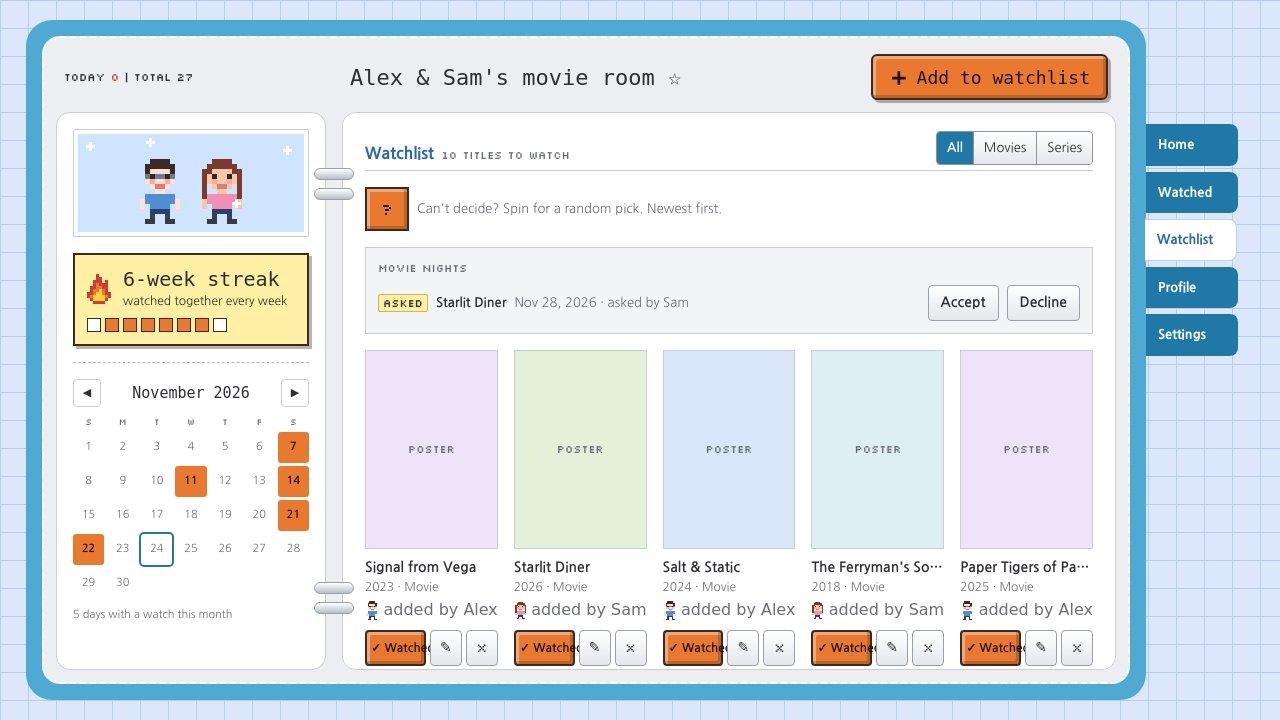
revisions › asks before removing a watchlist title, and the header button adds to the watchlist
Check: the button "+ Add to watchlist" is shown, box [871,54,1108,100]
Click the button named "Remove Signal from Vega" at (482, 648), box [466,630,498,666]
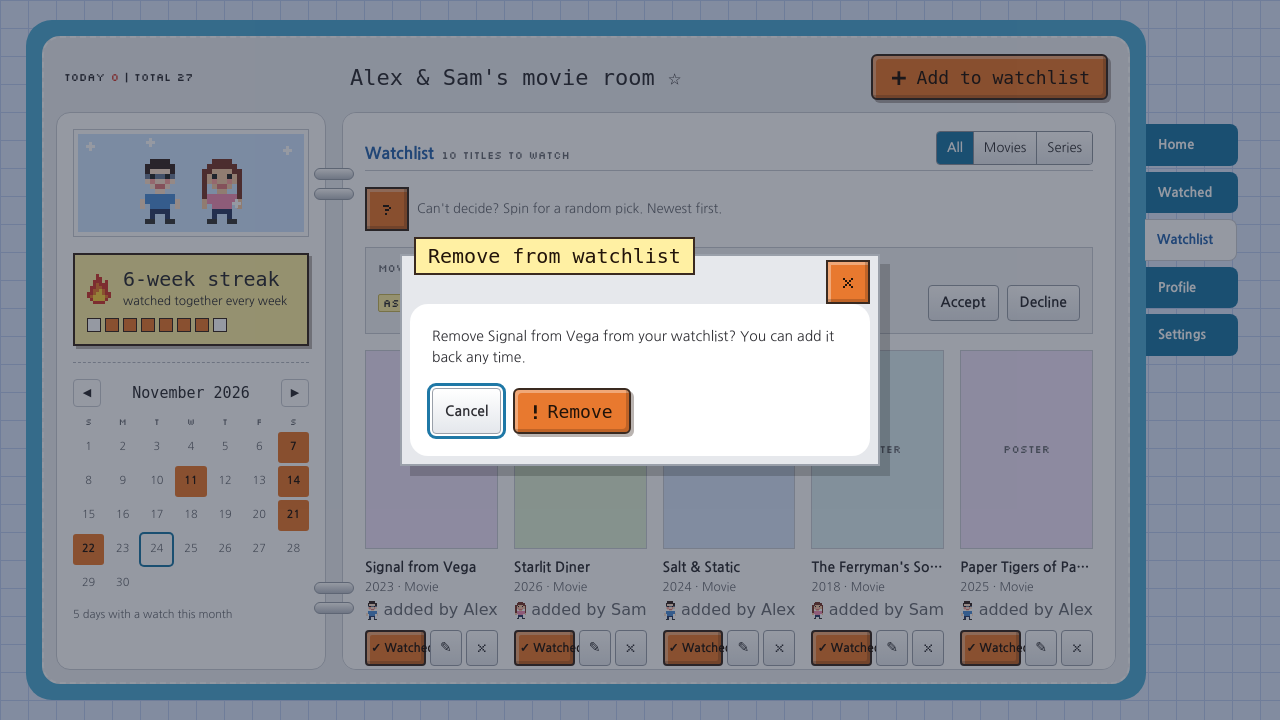
Click the button "Cancel" at (467, 411), box [432,388,501,434]
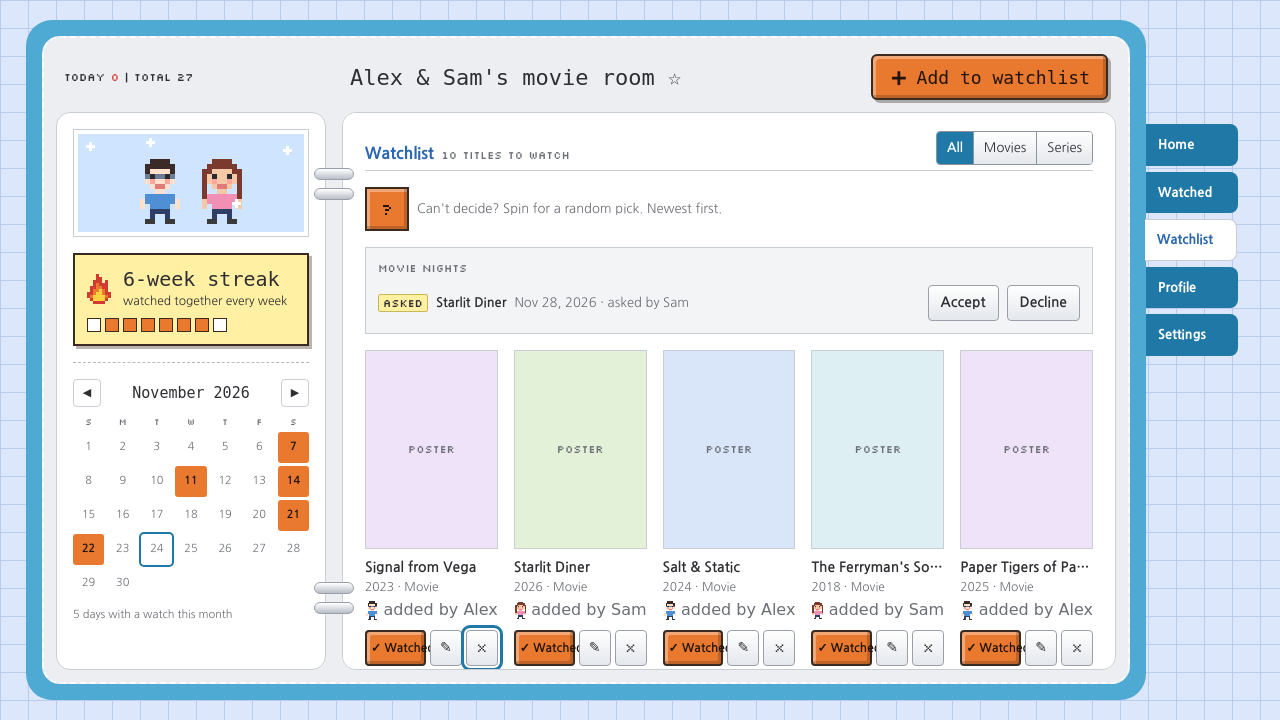
Check: the element "Signal from Vega" is shown, box [365,350,498,666]
Click the button named "Remove Signal from Vega" at (482, 648), box [466,630,498,666]
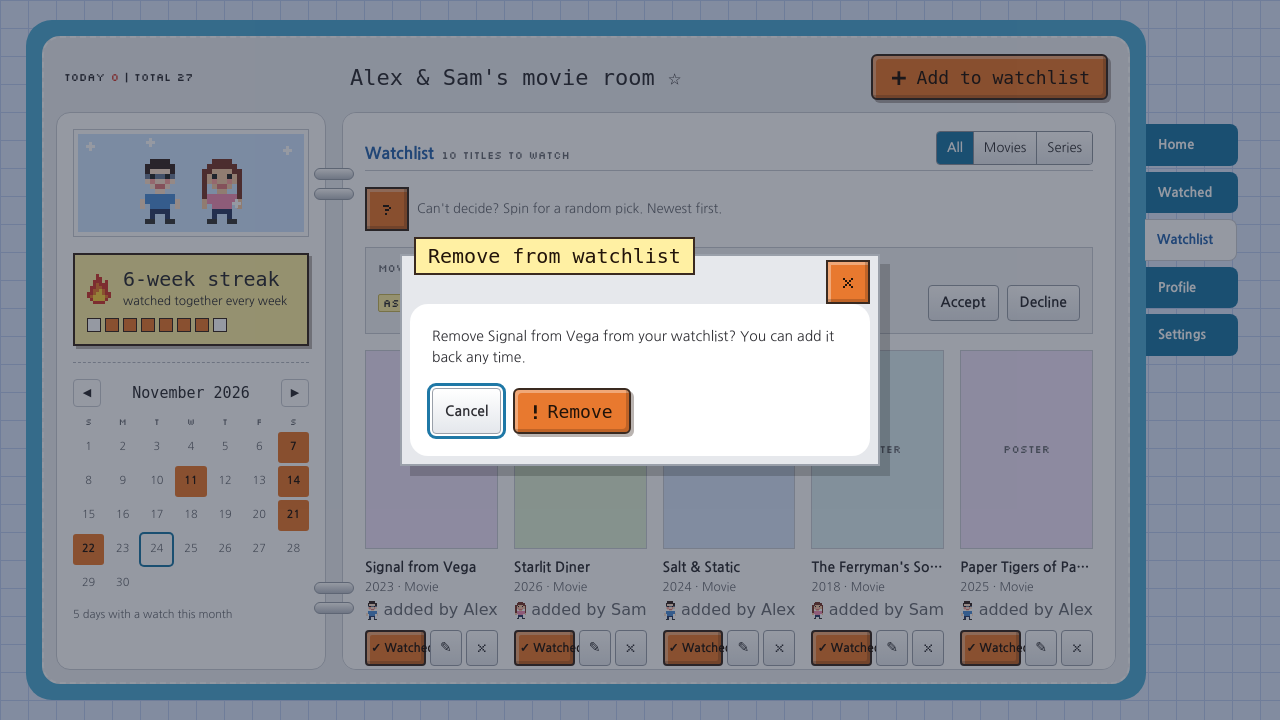
Click the button "! Remove" at (572, 411), box [513,388,631,434]
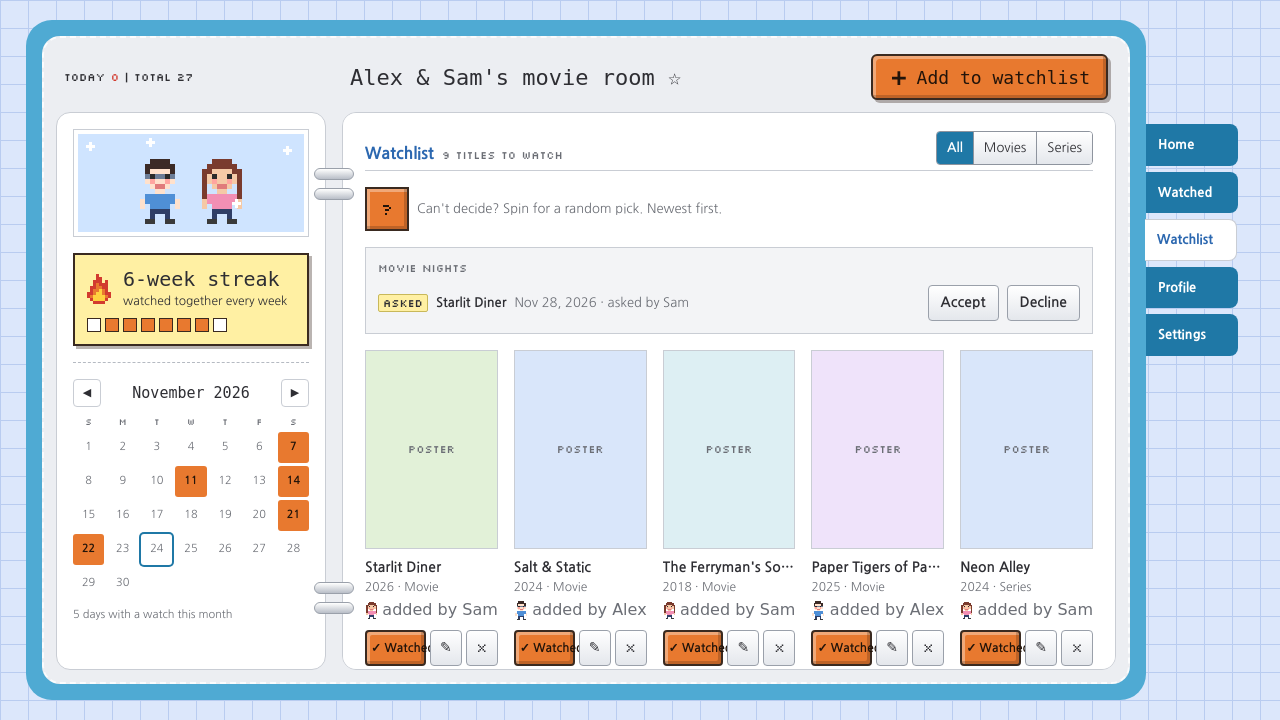
Check: the heading "Signal from Vega" is gone
